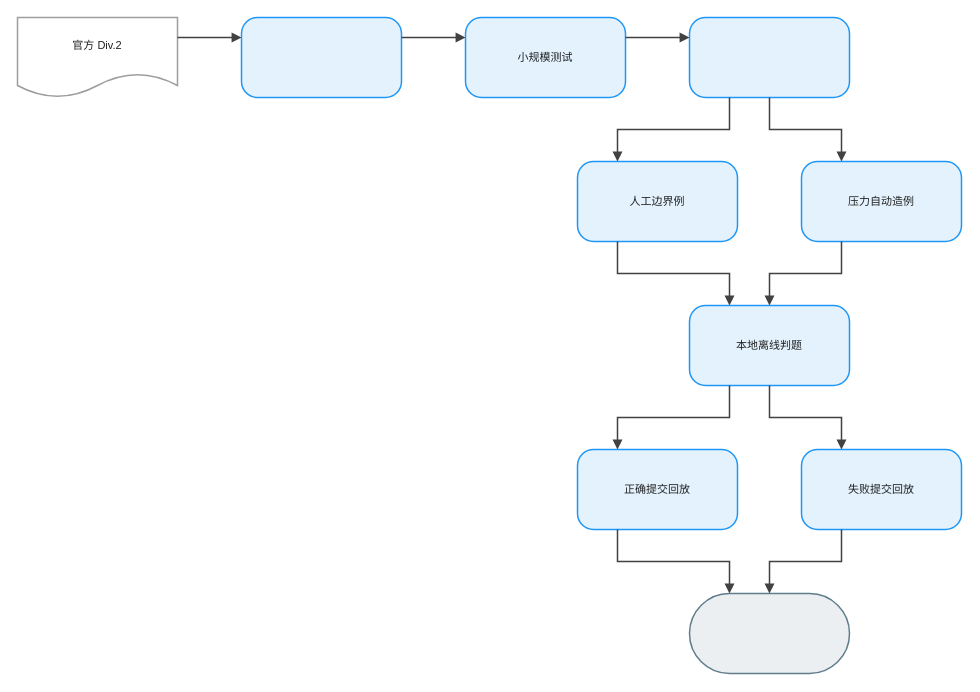
The diagram is 980 pixels wide and 692 high, and some of its shapes have lost their labels. Each missing label, with the box of its shape:
可靠性结果 100% / 92.45%: (688, 592, 850, 674)
收录 53 题: (240, 16, 402, 98)
随机大数据: (688, 16, 850, 98)
